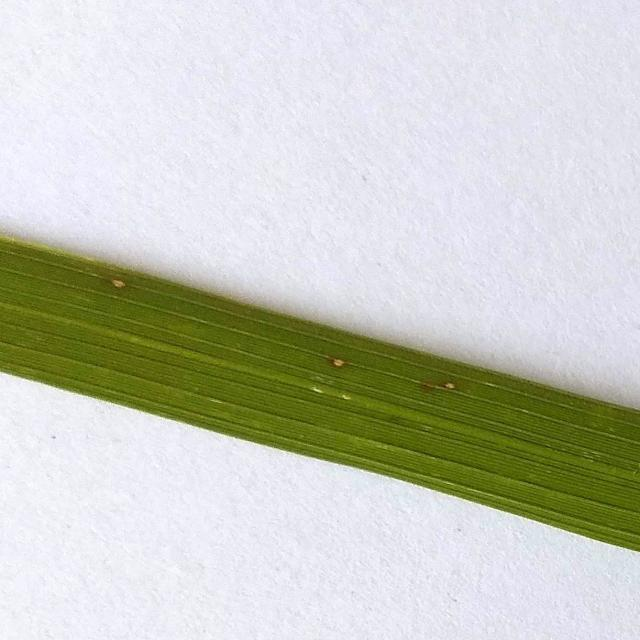Blast: (422, 371, 463, 398), (99, 273, 142, 295), (326, 349, 349, 369)
